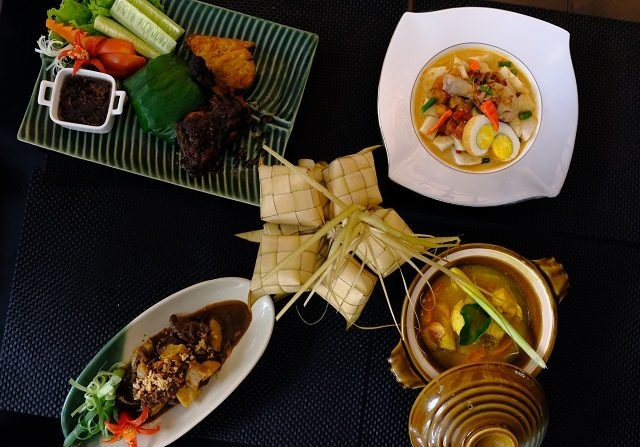ketupat: (247, 232, 323, 296), (256, 164, 325, 227), (317, 252, 377, 324), (327, 150, 379, 214)
